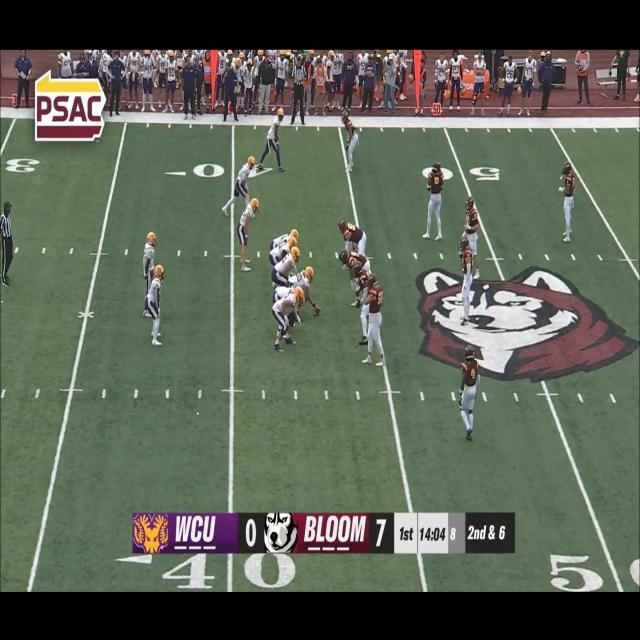football: (312, 304, 322, 320)
